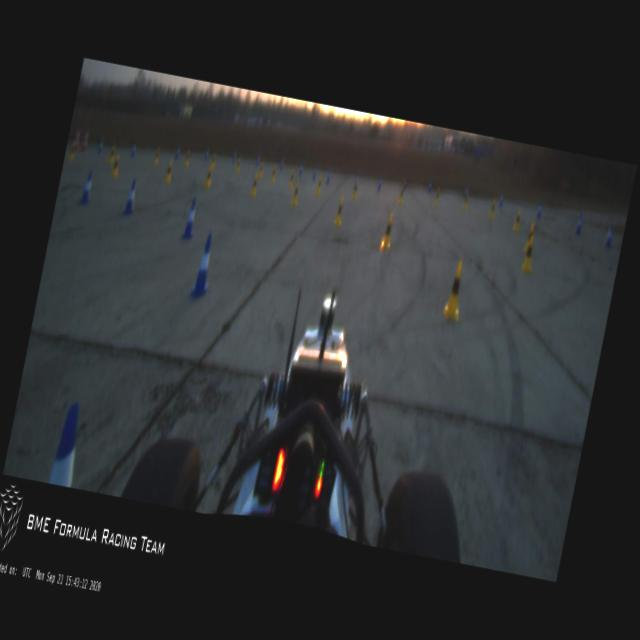blue_cone: (49, 400, 87, 487), (190, 232, 218, 300), (181, 198, 200, 242), (79, 169, 96, 206), (124, 178, 140, 214), (604, 222, 616, 250), (574, 212, 584, 237), (96, 136, 105, 156), (535, 200, 544, 218), (498, 190, 506, 208), (130, 143, 137, 159), (463, 182, 469, 198), (174, 146, 180, 161), (402, 178, 408, 192), (298, 163, 304, 176), (428, 178, 434, 191), (377, 178, 383, 190), (204, 148, 209, 162), (326, 170, 331, 183), (232, 150, 237, 162), (279, 158, 284, 170), (312, 170, 316, 180), (256, 156, 260, 164)
large_orange_cone: (72, 125, 82, 152), (80, 126, 90, 152)
yellow_cone: (442, 260, 470, 323), (520, 235, 540, 277), (379, 212, 396, 252), (523, 222, 536, 255), (334, 197, 346, 227), (290, 180, 302, 208), (202, 166, 215, 191), (111, 154, 123, 178), (512, 210, 524, 234), (163, 159, 174, 184), (249, 174, 260, 199), (66, 141, 77, 164), (314, 175, 324, 197), (152, 146, 162, 166), (489, 198, 498, 220), (397, 184, 406, 205), (351, 180, 360, 201), (109, 144, 118, 165), (288, 168, 296, 190), (462, 192, 471, 210), (270, 164, 278, 184), (184, 148, 192, 168), (433, 188, 441, 206), (257, 162, 265, 180), (235, 157, 242, 176), (210, 153, 218, 169)
